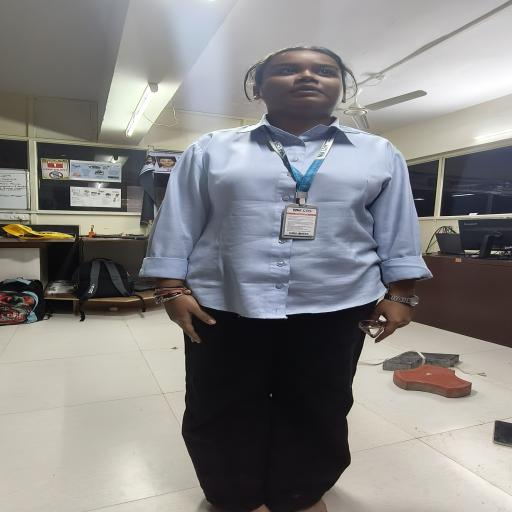survivor: (138, 45, 434, 512)
